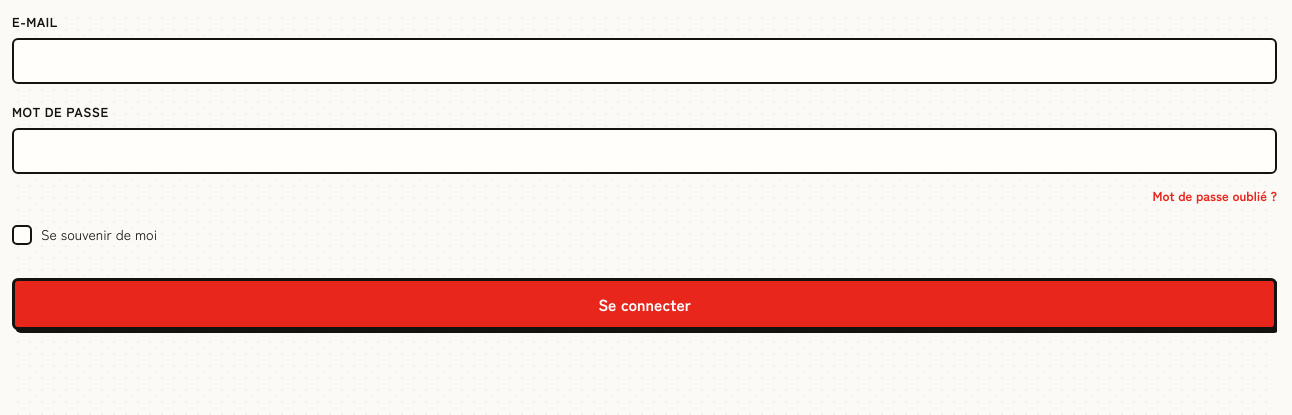
Test: LoginForm › shows "Identifiants invalides" on 401 from server
The width and height of the screenshot is (1292, 415).
Type "yuki@example.com" into the field labelled "E-mail" at (644, 61), box [12,38,1277,84]
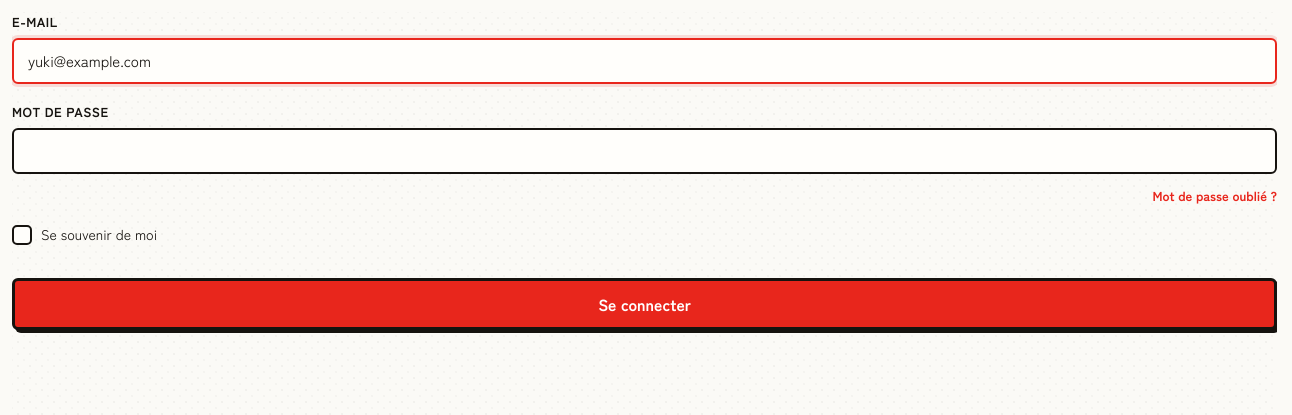
Type "wrongpassword" into the password field labelled "Mot de passe" at (644, 151), box [12,128,1277,174]
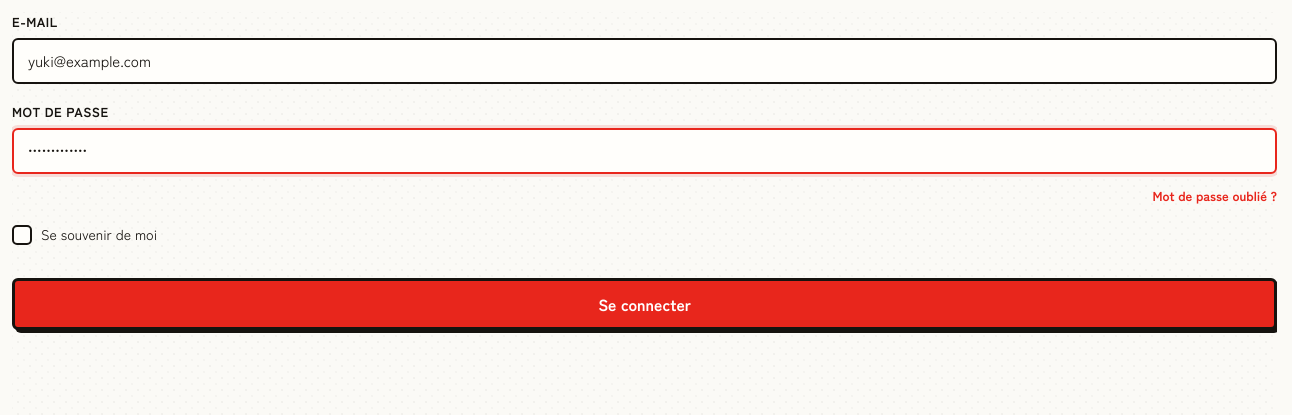
Click the button "Se connecter" at (644, 304), box [12,278,1277,330]
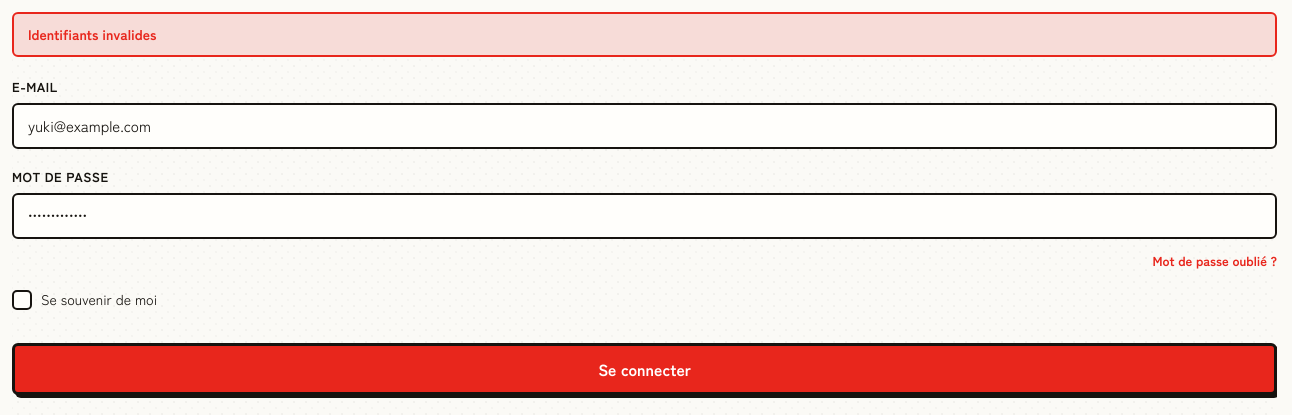
Check: the text "Identifiants invalides" is shown, box [12,12,1277,57]
